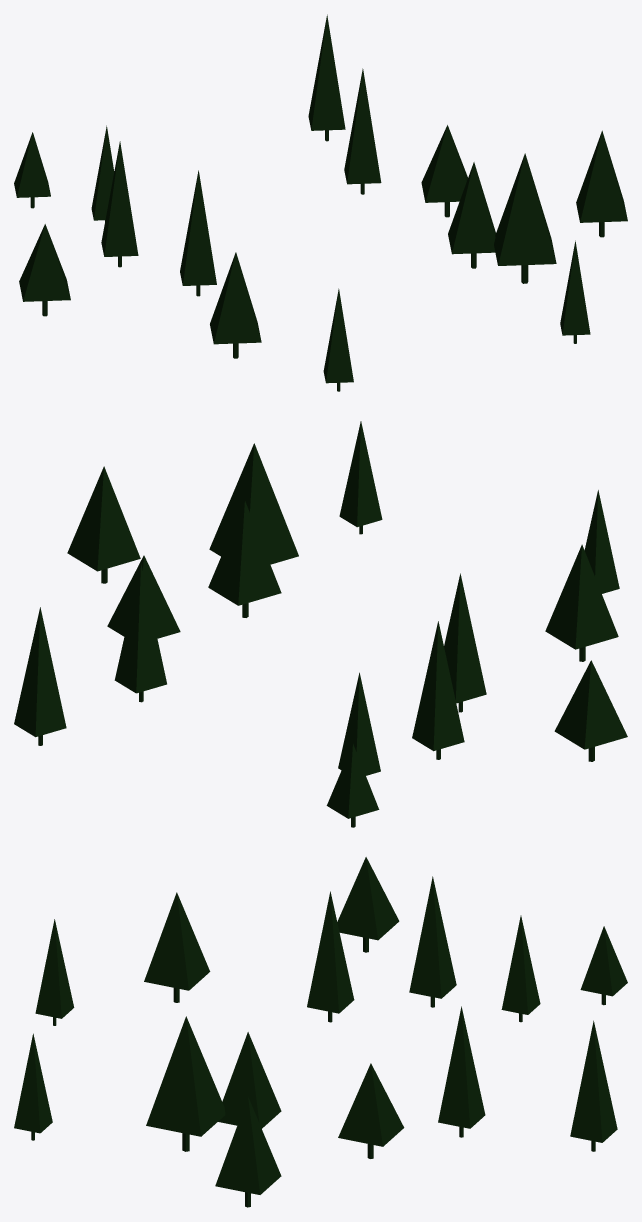
The model's file is Model_RiverTree.fbx.
3 renders of one model, top to bottom at view 1: azimuth 30°, elevation 25°; view 2: azimuth 150°, elevation 25°; view 3: azimuth 270°, elevation 25°, orthographic. The views are drawn at different scales.
Visible parts, largest first — view 1: Obj3d66-1716343-48-956, Obj3d66-1716343-48-970, Obj3d66-1716343-48-960, Obj3d66-1716343-48-958, Obj3d66-1716343-48-971, Obj3d66-1716343-48-964, Obj3d66-1716343-48-969, Obj3d66-1716343-48-967, Obj3d66-1716343-48-968, Obj3d66-1716343-48-965, Obj3d66-1716343-48-973, Obj3d66-1716343-48-974 (+2 smaller); view 2: Obj3d66-1716343-48-956, Obj3d66-1716343-48-970, Obj3d66-1716343-48-960, Obj3d66-1716343-48-958, Obj3d66-1716343-48-964, Obj3d66-1716343-48-967, Obj3d66-1716343-48-968, Obj3d66-1716343-48-971, Obj3d66-1716343-48-969, Obj3d66-1716343-48-974, Obj3d66-1716343-48-961, Obj3d66-1716343-48-965 (+2 smaller); view 3: Obj3d66-1716343-48-956, Obj3d66-1716343-48-960, Obj3d66-1716343-48-970, Obj3d66-1716343-48-969, Obj3d66-1716343-48-964, Obj3d66-1716343-48-967, Obj3d66-1716343-48-968, Obj3d66-1716343-48-965, Obj3d66-1716343-48-971, Obj3d66-1716343-48-958, Obj3d66-1716343-48-972, Obj3d66-1716343-48-974 (+2 smaller).
Part boxes in pixels (x1=…): Obj3d66-1716343-48-956: x1=494, y1=153, x2=556, y2=283; Obj3d66-1716343-48-970: x1=576, y1=130, x2=627, y2=237; Obj3d66-1716343-48-960: x1=210, y1=252, x2=261, y2=358; Obj3d66-1716343-48-958: x1=448, y1=162, x2=495, y2=268; Obj3d66-1716343-48-971: x1=19, y1=224, x2=70, y2=316; Obj3d66-1716343-48-964: x1=344, y1=68, x2=381, y2=194; Obj3d66-1716343-48-969: x1=180, y1=170, x2=216, y2=296; Obj3d66-1716343-48-967: x1=308, y1=14, x2=345, y2=141; Obj3d66-1716343-48-968: x1=101, y1=141, x2=138, y2=267; Obj3d66-1716343-48-965: x1=421, y1=125, x2=467, y2=217; Obj3d66-1716343-48-973: x1=323, y1=288, x2=353, y2=391; Obj3d66-1716343-48-974: x1=560, y1=240, x2=590, y2=343; Obj3d66-1716343-48-956: x1=209, y1=443, x2=298, y2=564; Obj3d66-1716343-48-970: x1=67, y1=466, x2=140, y2=583; Obj3d66-1716343-48-960: x1=545, y1=544, x2=618, y2=661; Obj3d66-1716343-48-958: x1=208, y1=501, x2=281, y2=617; Obj3d66-1716343-48-964: x1=114, y1=563, x2=166, y2=702; Obj3d66-1716343-48-967: x1=14, y1=607, x2=66, y2=745; Obj3d66-1716343-48-968: x1=412, y1=621, x2=464, y2=759; Obj3d66-1716343-48-971: x1=554, y1=660, x2=627, y2=761; Obj3d66-1716343-48-969: x1=444, y1=573, x2=486, y2=712; Obj3d66-1716343-48-974: x1=339, y1=421, x2=382, y2=534; Obj3d66-1716343-48-961: x1=326, y1=744, x2=379, y2=827; Obj3d66-1716343-48-965: x1=107, y1=555, x2=180, y2=638; Obj3d66-1716343-48-956: x1=146, y1=1016, x2=225, y2=1151; Obj3d66-1716343-48-960: x1=144, y1=892, x2=210, y2=1002; Obj3d66-1716343-48-970: x1=215, y1=1097, x2=281, y2=1207; Obj3d66-1716343-48-969: x1=307, y1=891, x2=354, y2=1022; Obj3d66-1716343-48-964: x1=438, y1=1006, x2=485, y2=1137; Obj3d66-1716343-48-967: x1=570, y1=1020, x2=617, y2=1151; Obj3d66-1716343-48-968: x1=409, y1=876, x2=456, y2=1007; Obj3d66-1716343-48-965: x1=338, y1=1063, x2=404, y2=1158; Obj3d66-1716343-48-971: x1=337, y1=857, x2=399, y2=952; Obj3d66-1716343-48-958: x1=218, y1=1032, x2=281, y2=1128; Obj3d66-1716343-48-972: x1=501, y1=915, x2=540, y2=1022; Obj3d66-1716343-48-974: x1=14, y1=1033, x2=52, y2=1140.
Size of the model in its own units: 1130 by 255 by 1042.
